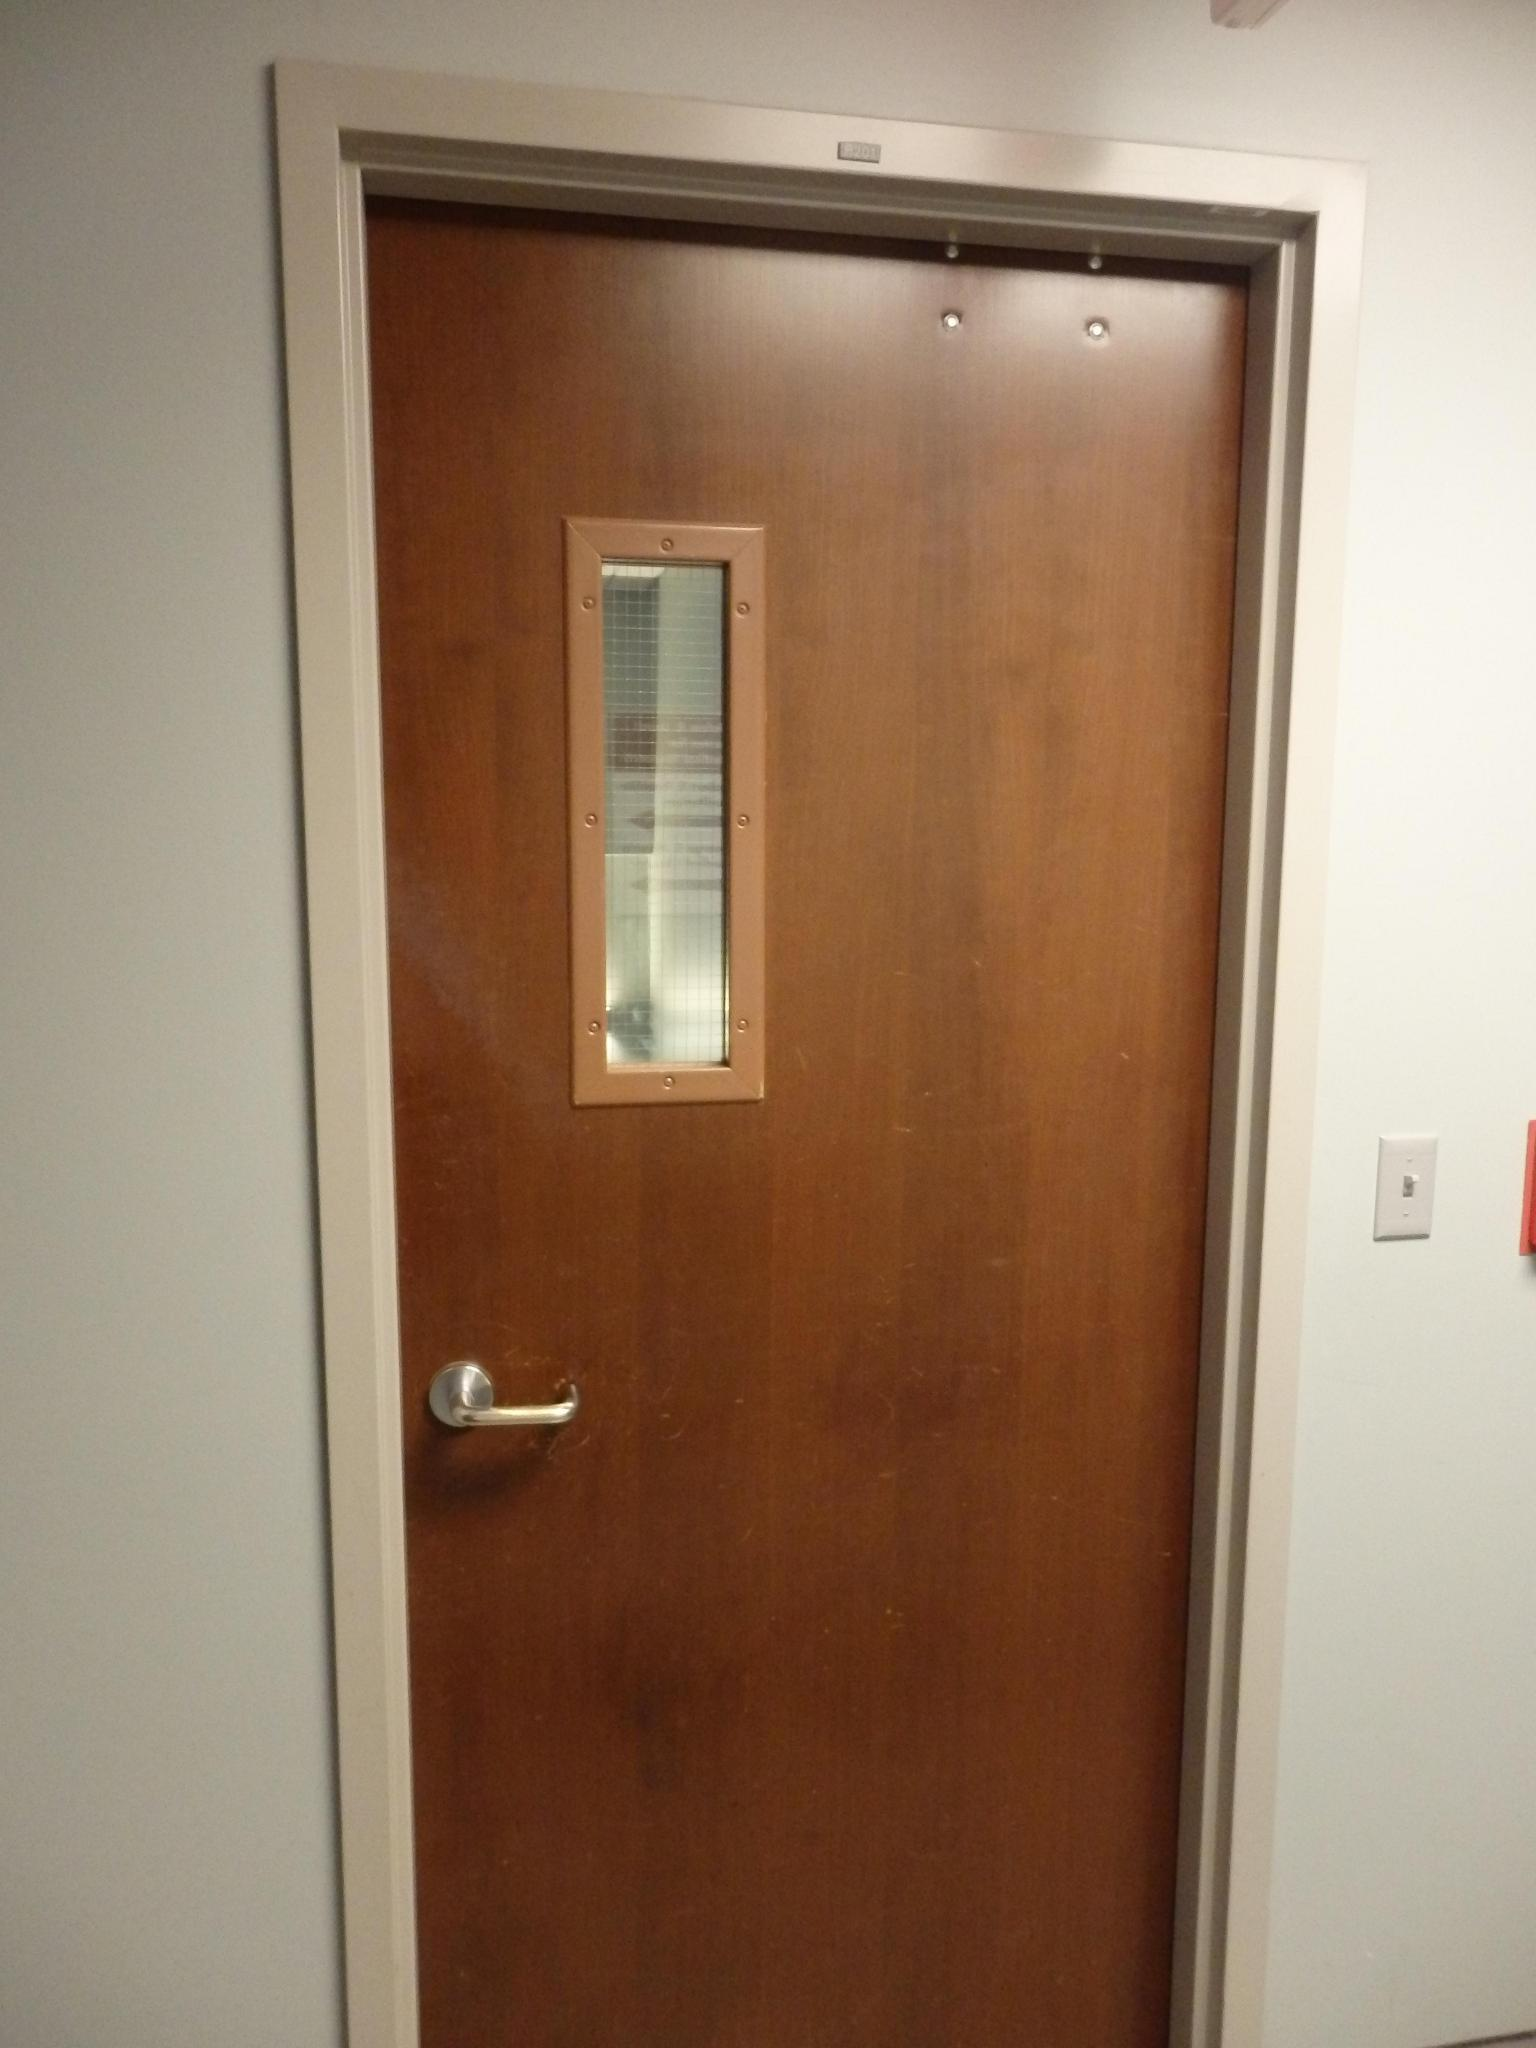door: (402, 250, 1202, 2024)
handle: (436, 1368, 592, 1456)
